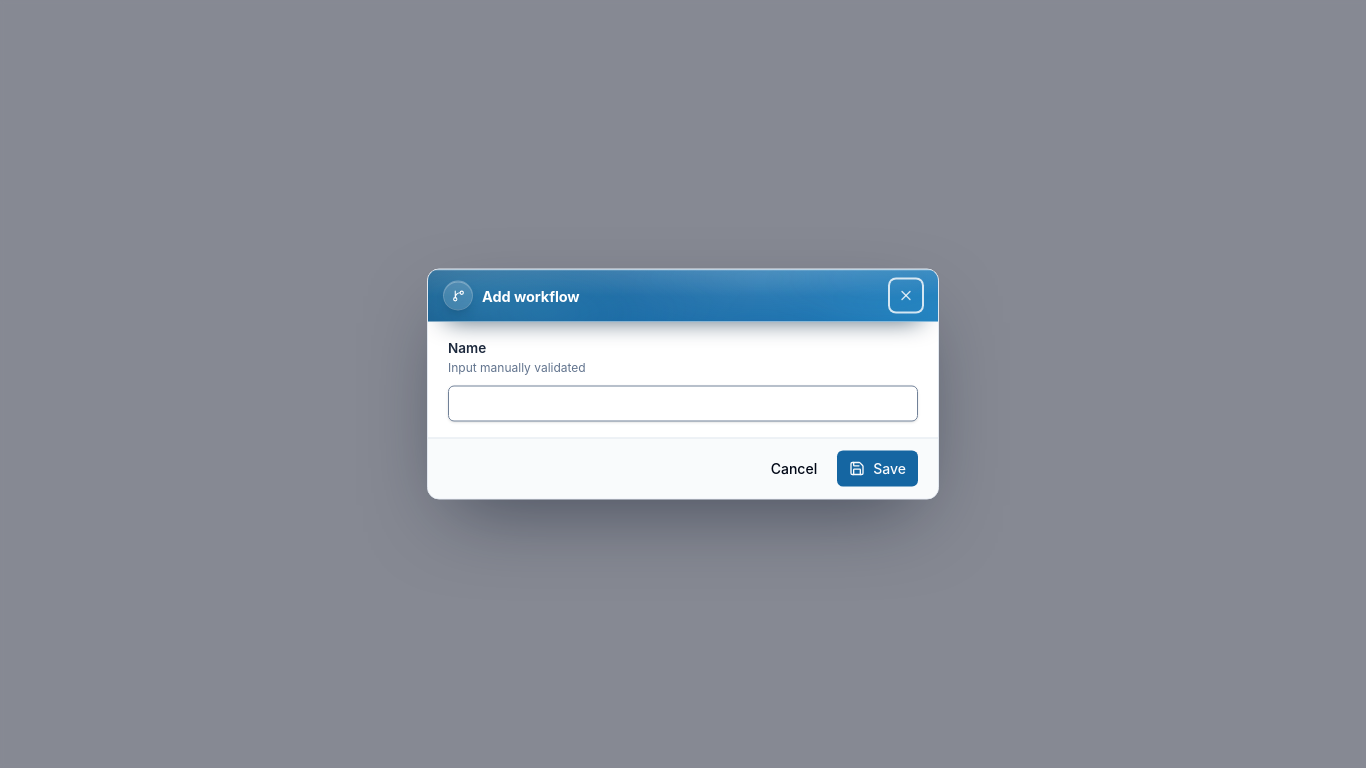
inline validation › shows the workflow name error inline and clears it while typing
Click the button "Save": click(878, 468) x1=837 y1=450 x2=918 y2=486
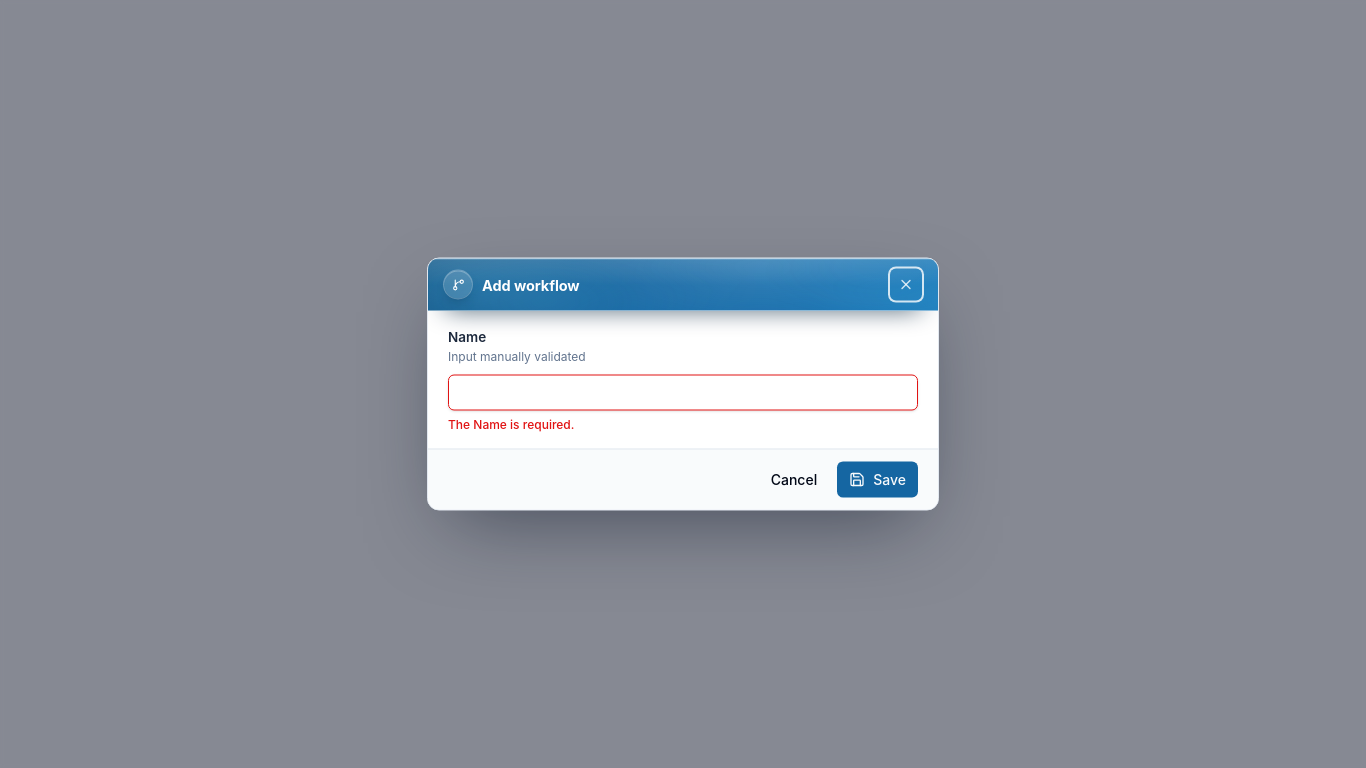
Expected: the field labelled "Name" is marked as invalid
Expected: the field labelled "Name" has attribute aria-describedby="workflow-name-error"
In the field labelled "Name": (683, 392) x1=448 y1=374 x2=918 y2=410, type "Attendance"
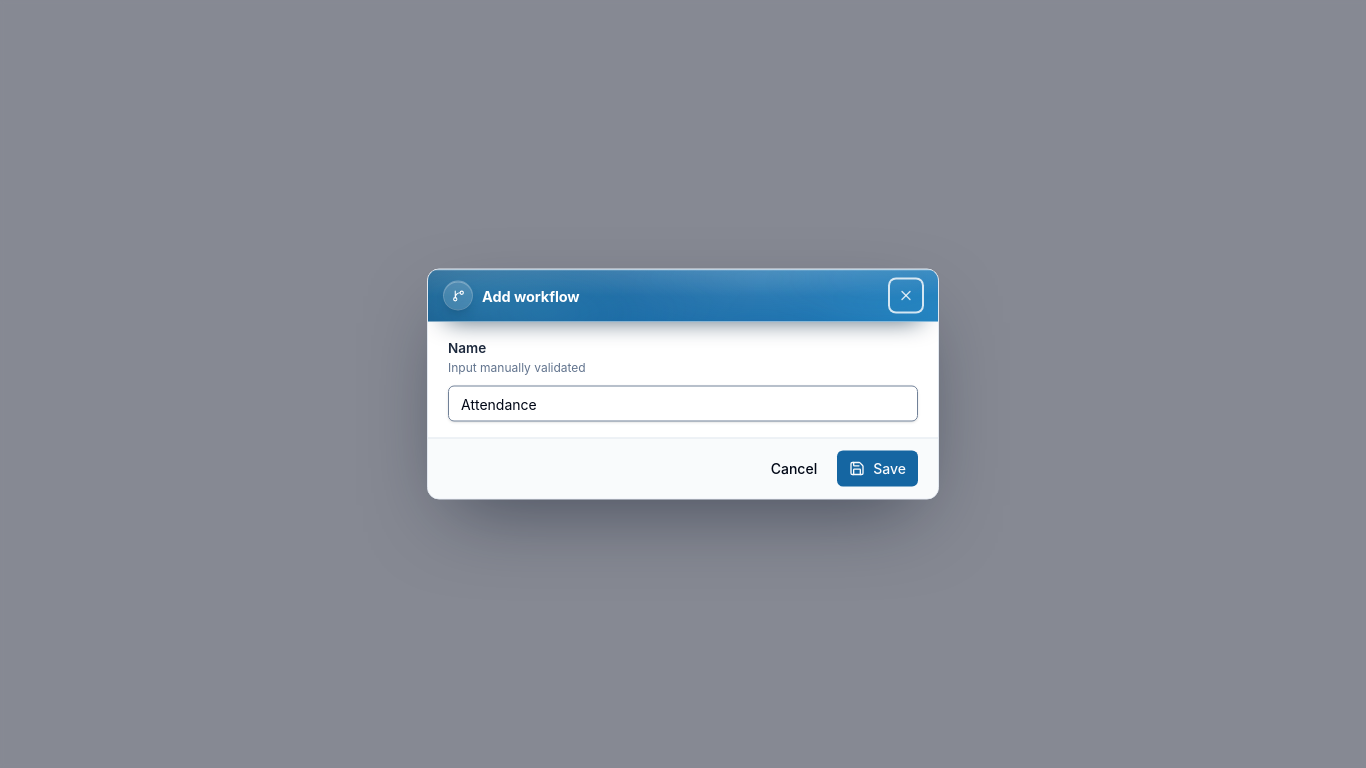
Expected: the text "The Name is required." is gone
